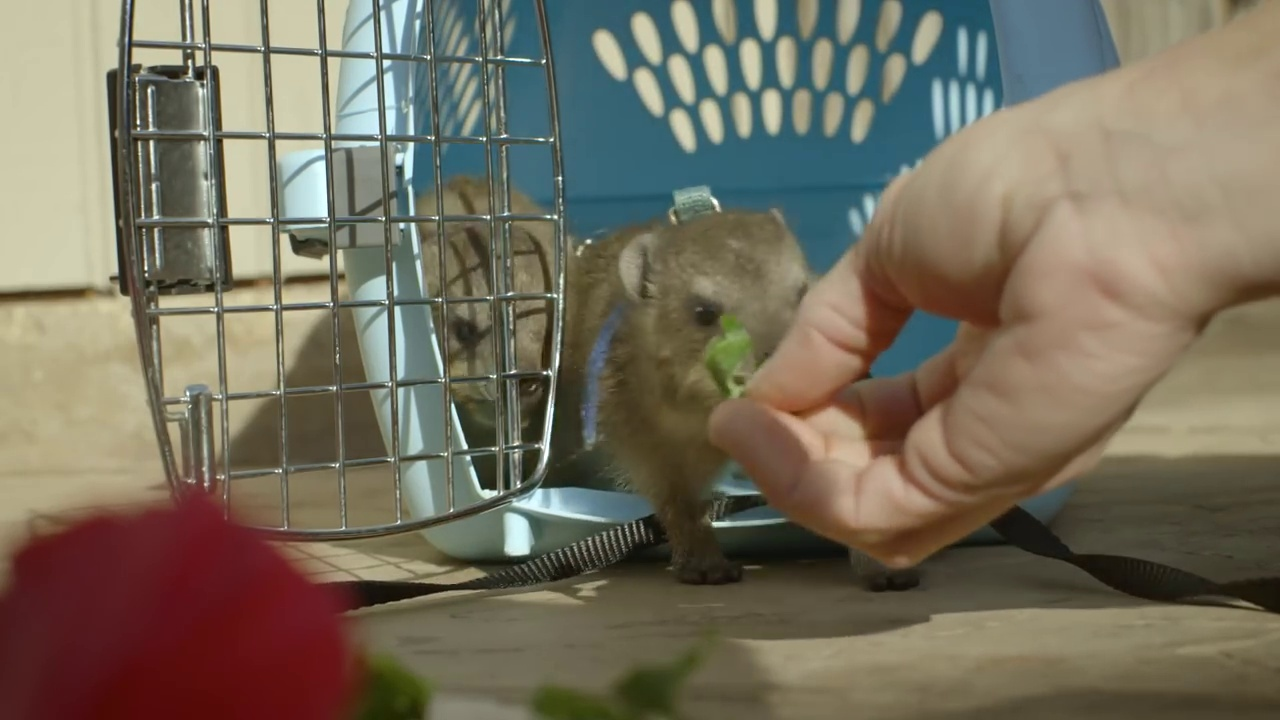Rock Hyrex: (614, 207, 832, 579), (409, 170, 601, 494)
